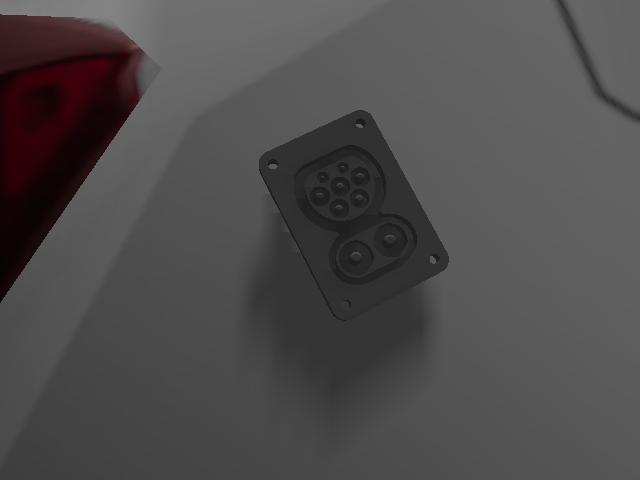EV-socket: (255, 106, 455, 329)
